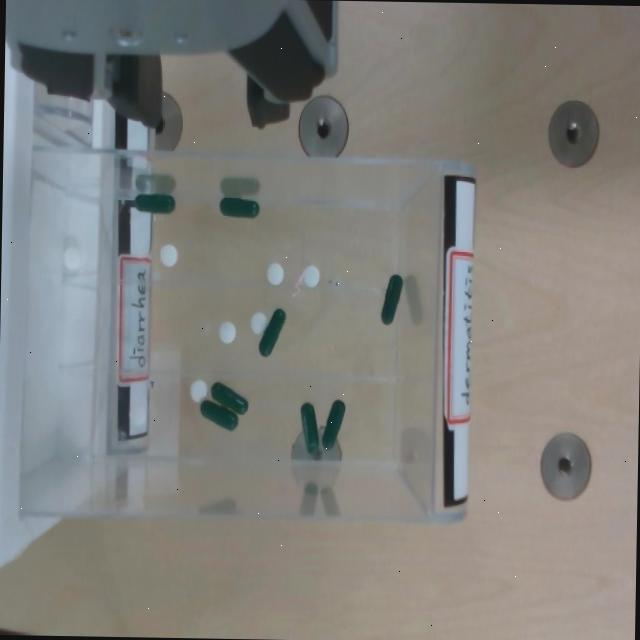ganakan_tab: (188, 377, 208, 404), (217, 319, 237, 345), (159, 242, 178, 269), (265, 261, 284, 288), (248, 310, 267, 336), (302, 262, 320, 289)
monodoxy_cap: (258, 308, 287, 360), (210, 381, 249, 416), (199, 398, 238, 432), (259, 308, 286, 357), (379, 274, 403, 329), (322, 400, 346, 452), (211, 382, 248, 415), (200, 400, 238, 431), (323, 400, 345, 450), (298, 401, 318, 454), (382, 275, 403, 325), (219, 197, 260, 221), (134, 193, 175, 217), (301, 403, 319, 455), (219, 197, 259, 219), (135, 193, 176, 214)
